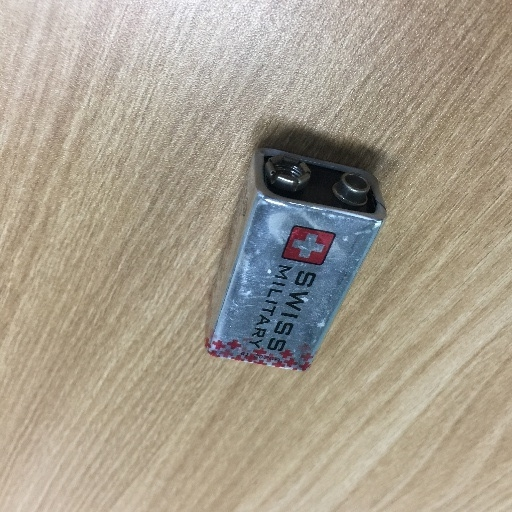Battery_3: (181, 124, 399, 396)
